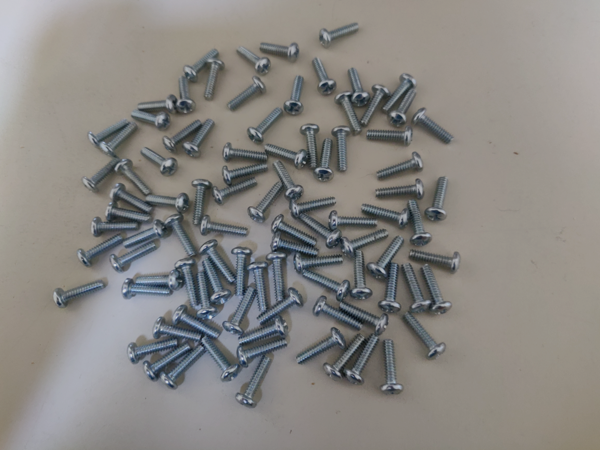shortscrew: (403, 311, 447, 361), (159, 345, 207, 390), (324, 334, 367, 383), (296, 328, 347, 367), (143, 343, 192, 383), (236, 356, 271, 409), (257, 288, 304, 327), (337, 302, 390, 336), (344, 335, 379, 386), (313, 296, 364, 331), (172, 305, 222, 340), (202, 336, 239, 383), (420, 264, 453, 316), (199, 240, 237, 284), (223, 287, 257, 336), (77, 234, 125, 268), (412, 107, 455, 144), (239, 316, 288, 348), (402, 263, 432, 315), (381, 73, 418, 115), (247, 182, 284, 224), (53, 280, 106, 309), (237, 338, 288, 368), (109, 242, 158, 273), (271, 214, 317, 247), (301, 214, 343, 250), (341, 229, 390, 259), (99, 122, 138, 159), (165, 214, 197, 258), (115, 159, 152, 197), (376, 151, 424, 180), (247, 108, 284, 145), (82, 158, 121, 193), (273, 160, 304, 204), (228, 77, 268, 111), (380, 340, 404, 396), (212, 177, 258, 206), (163, 120, 203, 153), (111, 184, 153, 215), (360, 84, 391, 126), (128, 338, 178, 364), (405, 199, 432, 247), (123, 220, 166, 250), (203, 258, 231, 304), (183, 118, 215, 158), (410, 250, 461, 275), (88, 118, 130, 148), (361, 202, 411, 227), (152, 317, 203, 341), (335, 91, 363, 134), (388, 88, 418, 128), (350, 251, 374, 300), (379, 263, 402, 314), (271, 232, 319, 256), (329, 210, 379, 233), (140, 147, 178, 177), (376, 178, 425, 201), (184, 50, 219, 82), (319, 22, 360, 49), (231, 247, 253, 296), (265, 145, 308, 170), (248, 262, 269, 313), (222, 163, 268, 186), (425, 177, 448, 223), (196, 273, 218, 321), (122, 279, 172, 300), (266, 253, 287, 303), (290, 197, 337, 219), (238, 45, 271, 76), (367, 125, 413, 147), (200, 216, 248, 237), (91, 217, 139, 238), (312, 58, 337, 97), (146, 193, 190, 215), (223, 142, 268, 163), (136, 271, 183, 291), (347, 68, 371, 107), (192, 180, 212, 226), (105, 203, 151, 223), (204, 58, 225, 101), (314, 139, 335, 182), (131, 110, 171, 132), (284, 75, 305, 116), (260, 41, 299, 63), (300, 124, 319, 169), (332, 125, 350, 172), (138, 94, 176, 115), (177, 76, 196, 115)
